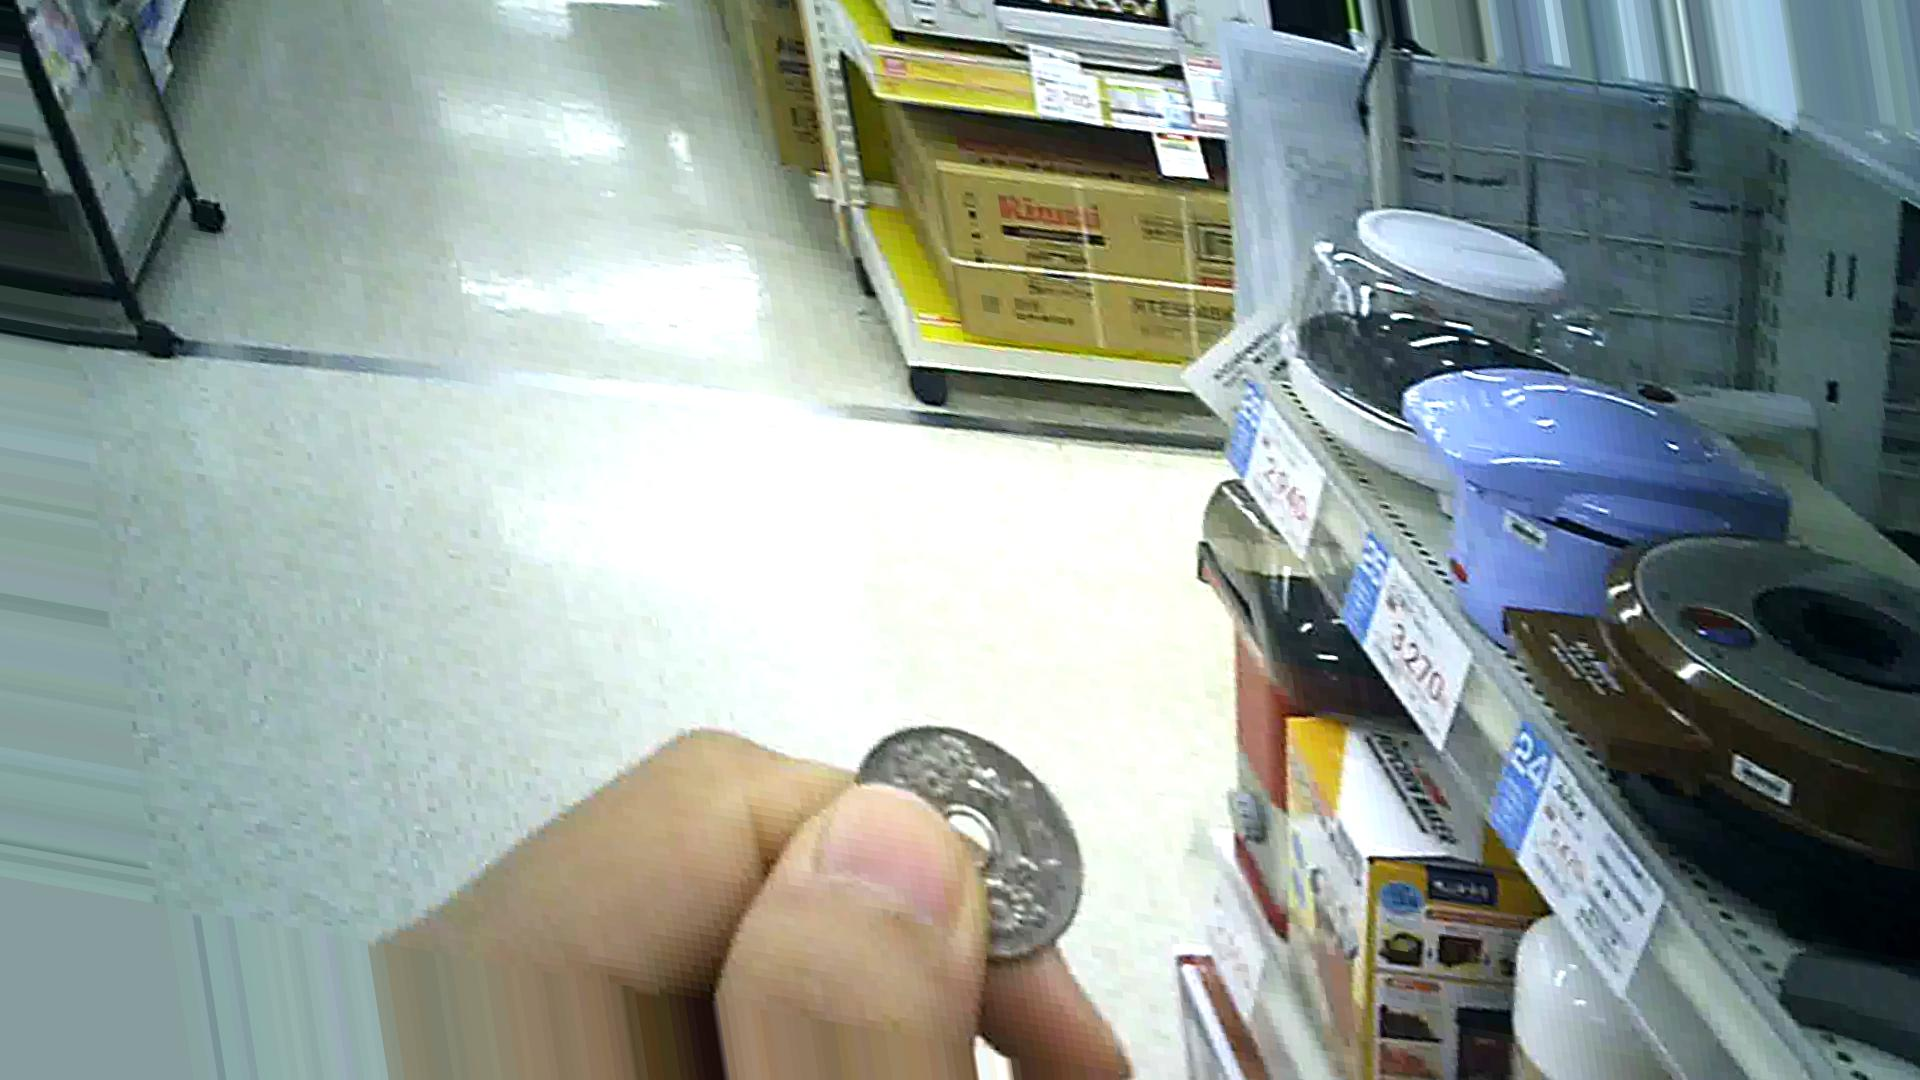50 Yen: (851, 725, 1110, 971)
